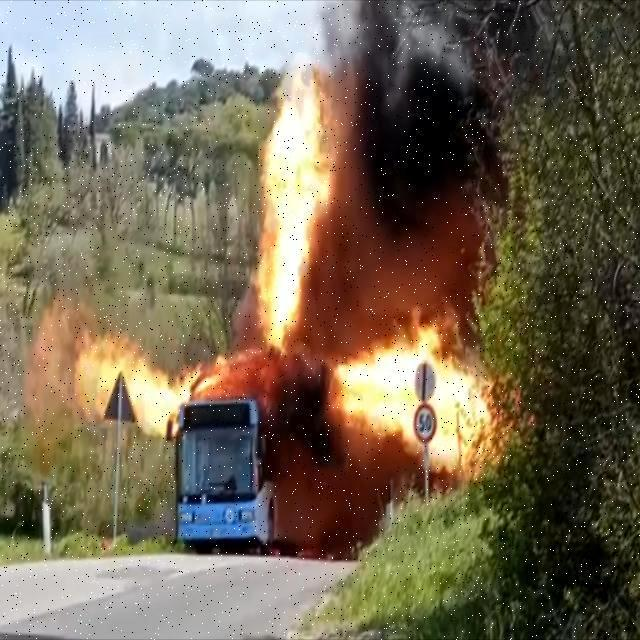Fire: (340, 339, 508, 469), (262, 51, 326, 346), (56, 341, 200, 434)
Smoke: (328, 33, 492, 307), (265, 452, 316, 548)
